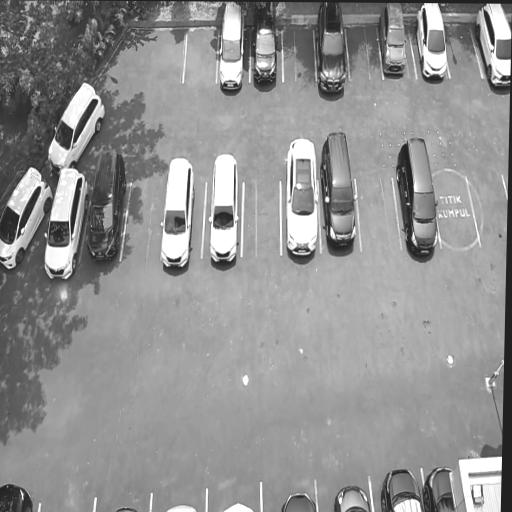Car: (40, 77, 111, 180), (392, 127, 443, 269), (0, 154, 57, 277), (38, 169, 93, 283), (82, 147, 131, 267), (320, 122, 360, 260), (282, 137, 323, 264), (157, 154, 198, 276), (315, 2, 352, 104), (209, 152, 240, 270), (474, 4, 511, 95), (413, 3, 451, 84), (217, 2, 248, 95), (250, 2, 281, 91), (378, 3, 411, 78), (378, 466, 427, 512), (423, 463, 458, 512), (0, 475, 35, 512), (332, 484, 373, 512), (278, 492, 317, 512), (221, 500, 258, 512), (109, 503, 141, 512), (163, 505, 201, 512)
Space Available: (357, 171, 402, 251), (432, 177, 481, 248), (121, 184, 166, 261), (242, 178, 282, 257), (469, 173, 508, 251), (444, 18, 483, 80), (181, 25, 219, 85), (346, 20, 383, 81), (282, 20, 317, 81), (38, 495, 96, 512)
